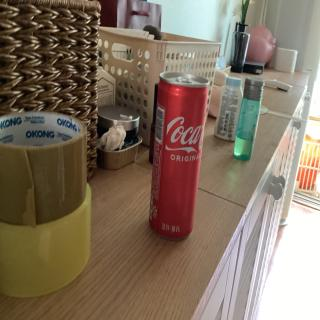cocacola: (143, 64, 216, 242)
